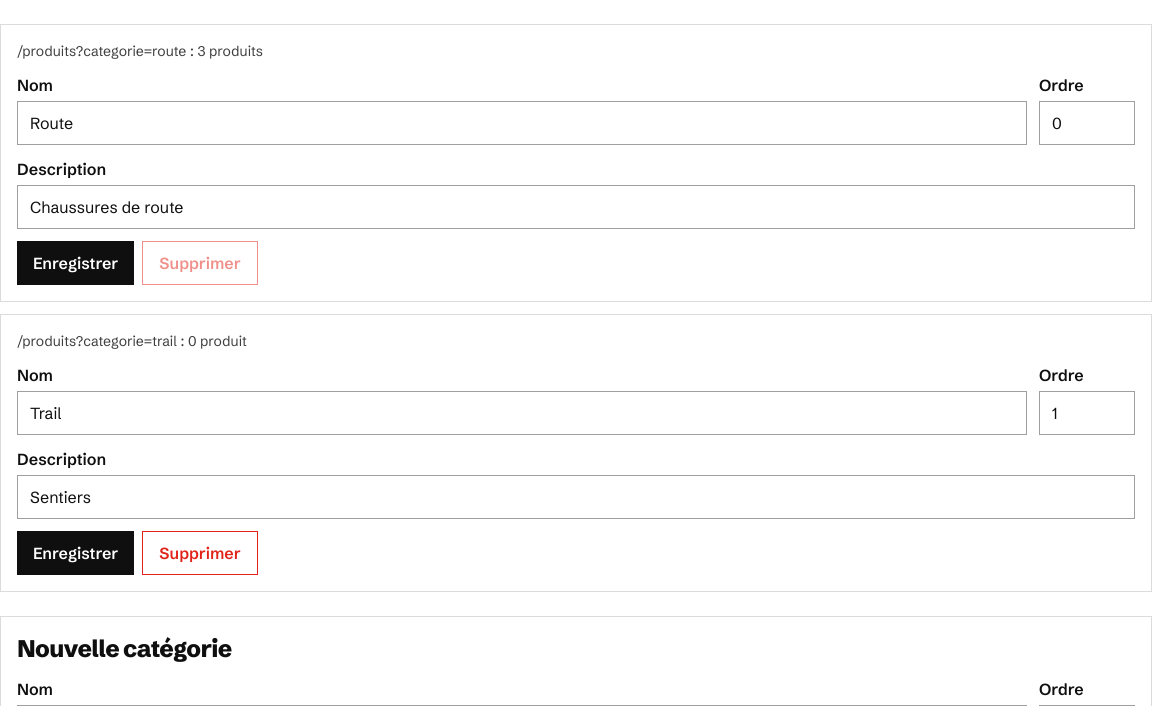
CategoryManager (EA03) › modification : n'envoie que les champs changés
Step 1. Replace the text in the field with id "name-c2" with "Trail running" → [522, 413], box [17,391,1027,435]
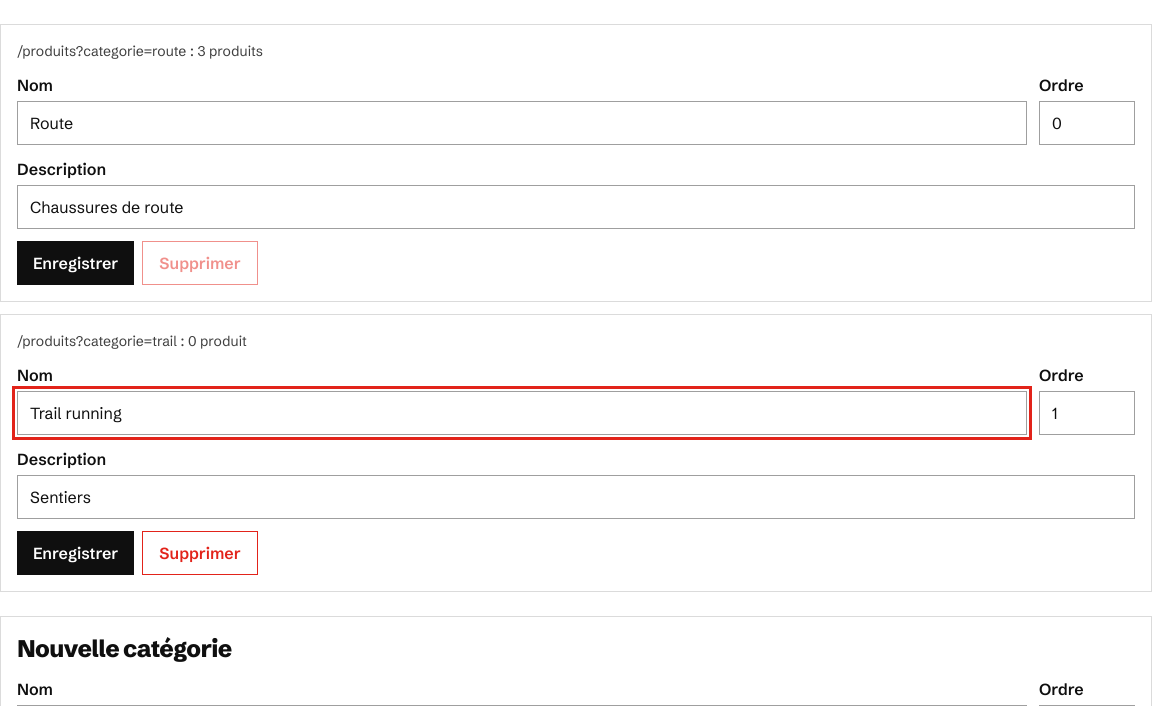
Step 2. Click the button "Enregistrer" below "trail" → [76, 553], box [17,531,134,575]
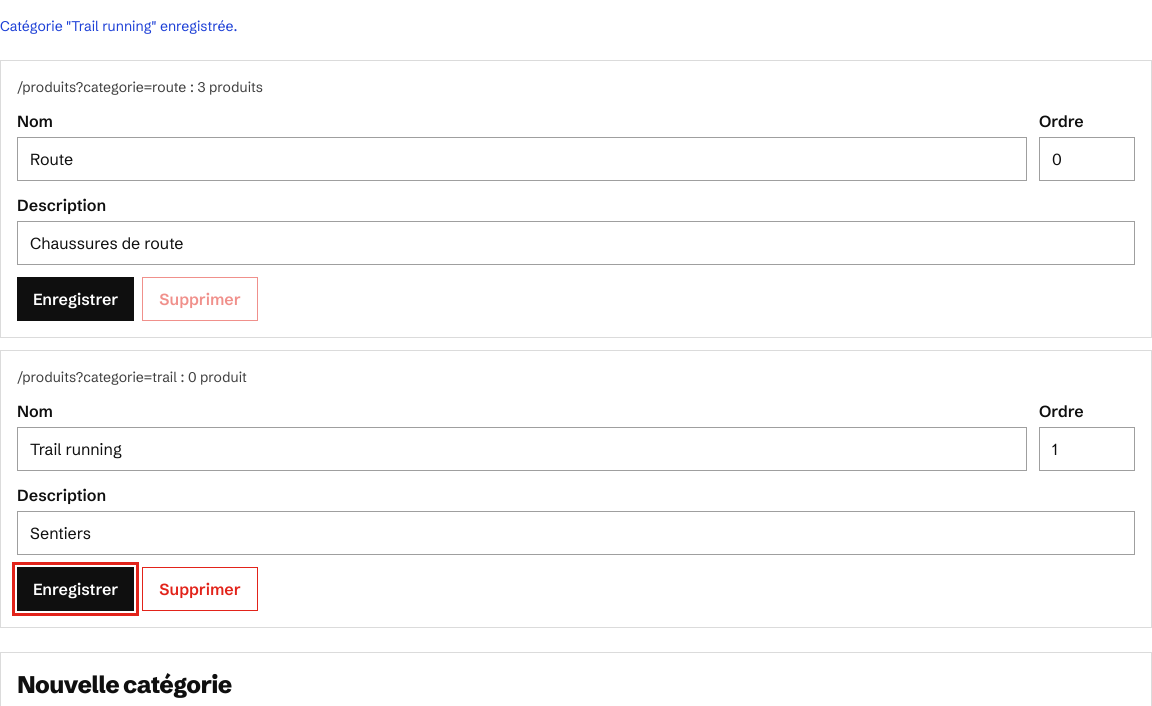
Check: the message reads "Catégorie \"Trail running\" enregistrée.", box [0,17,237,35]
